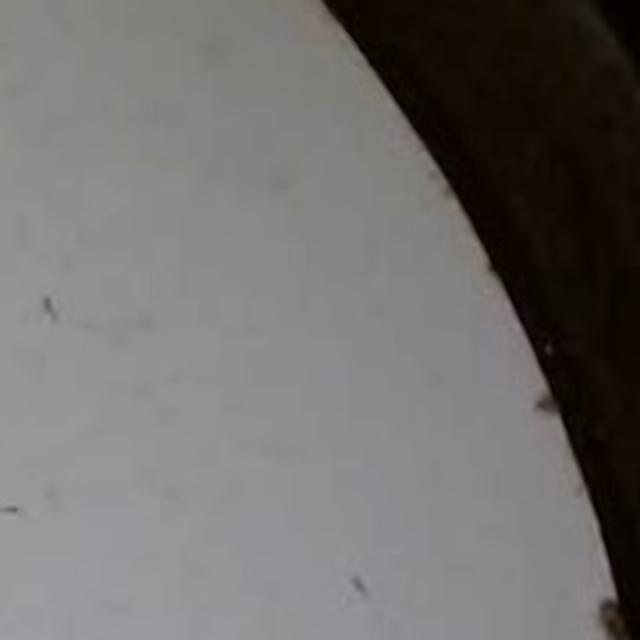shrimp-seed: (29, 286, 74, 332), (0, 480, 36, 529), (343, 570, 388, 602)
